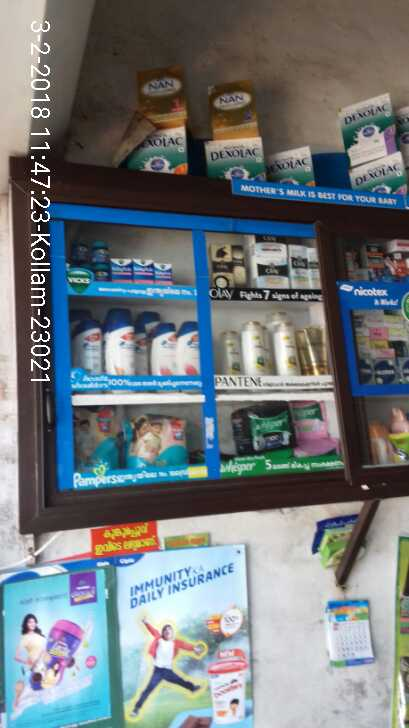vicks: (79, 232, 176, 289)
